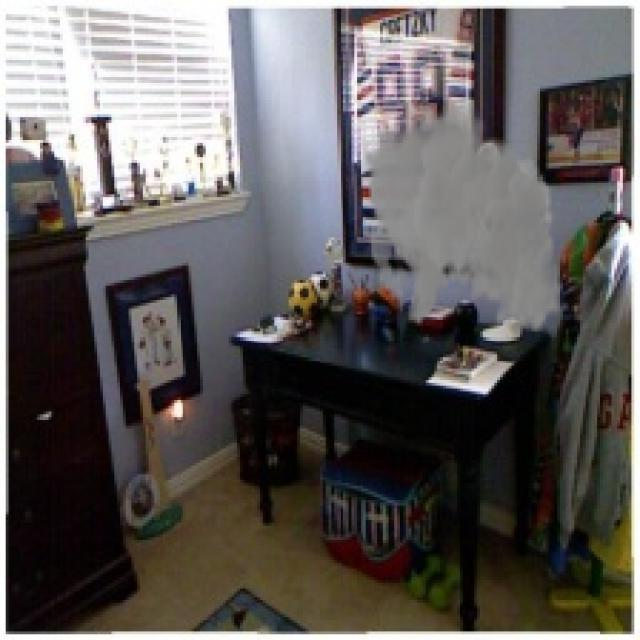smoke: (363, 89, 563, 340)
